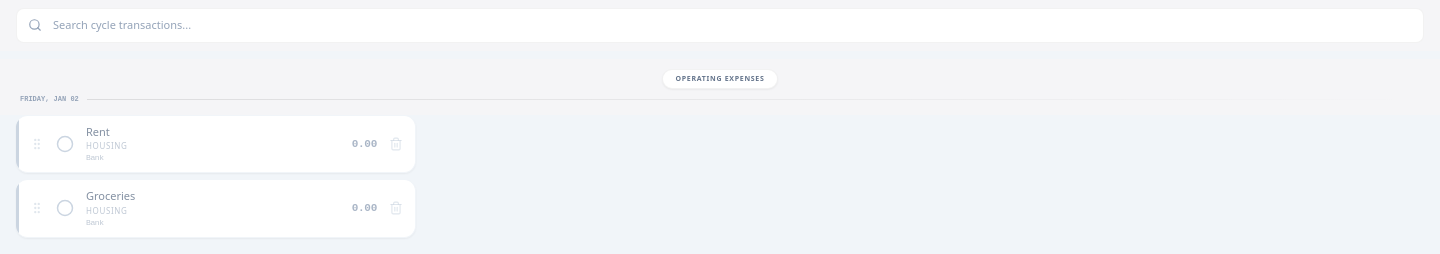
it: TransactionList › given the clear-search button is clicked, then the input is emptied and all rows are rendered again
In the field with placeholder "Search cycle transactions...": (720, 25) x1=16 y1=8 x2=1424 y2=42, type "rent"
Wait 300 ms
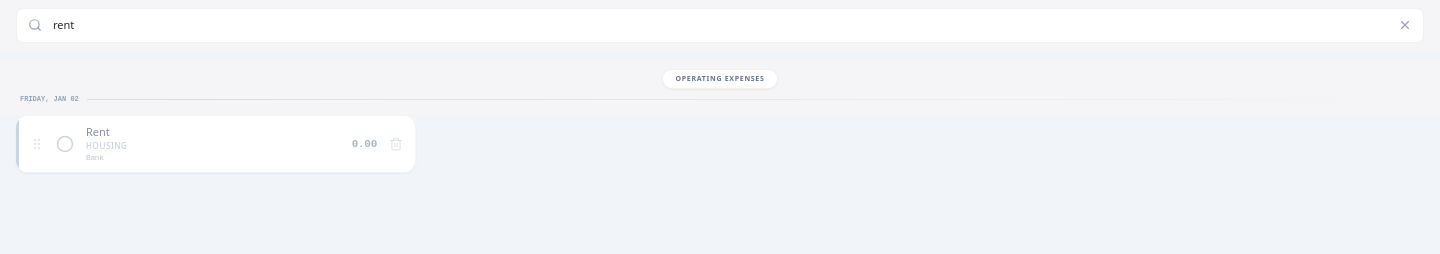
Now the element with id "tx-row-tx-b" is gone
clear (X) button is now visible
Click the 1st button: (1405, 25) x1=1394 y1=14 x2=1416 y2=36
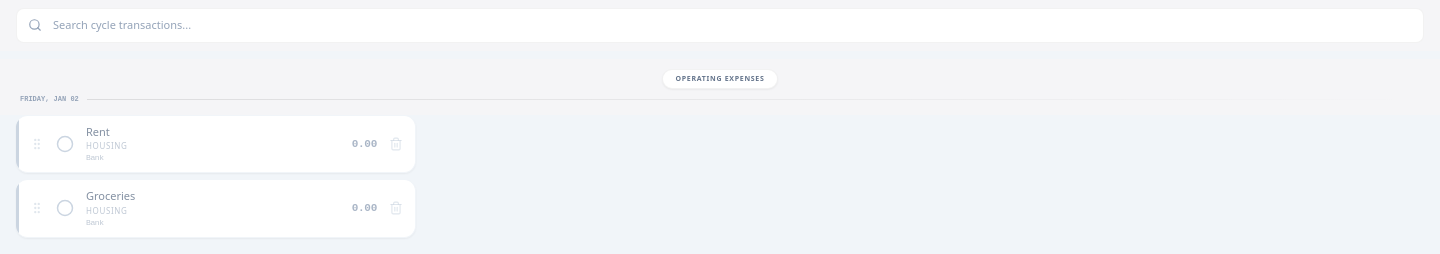
Expected: the element with id "tx-row-tx-a" is shown, x1=16 y1=114 x2=416 y2=173
Now the element with id "tx-row-tx-b" is shown, box x1=16 y1=179 x2=416 y2=238
